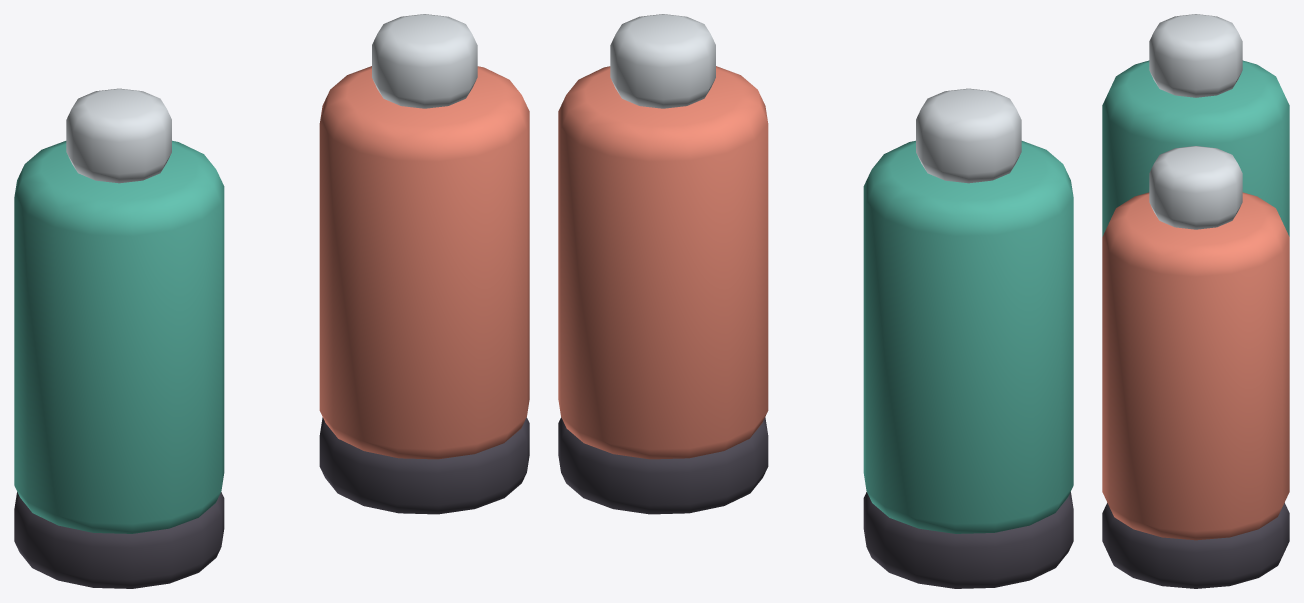
Rendered from batteries_b.glb.
The picture shows the model from 3 angles, left to right: view 1: azimuth 30°, elevation 25°; view 2: azimuth 150°, elevation 25°; view 3: azimuth 270°, elevation 25°; orthographic projection. The views are drawn at different scales.
Parts seen in each view (by area): view 1: body; view 2: body; view 3: body.
Part boxes in pixels (x1,y1,x2,y2): body: [14, 14, 529, 588]; body: [558, 14, 1073, 588]; body: [1102, 14, 1289, 588].
Bounding box in the file's own units: 0.064 × 0.056 × 0.024.
